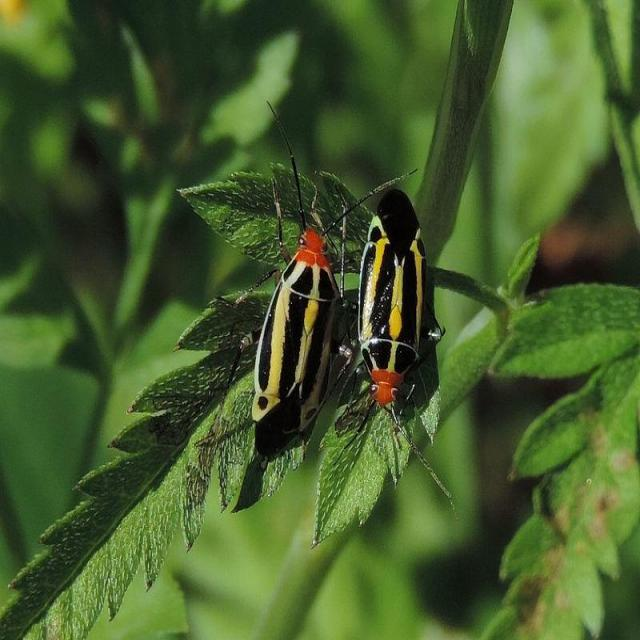Miridae-Adult-: (341, 113, 459, 483), (243, 99, 356, 467)
